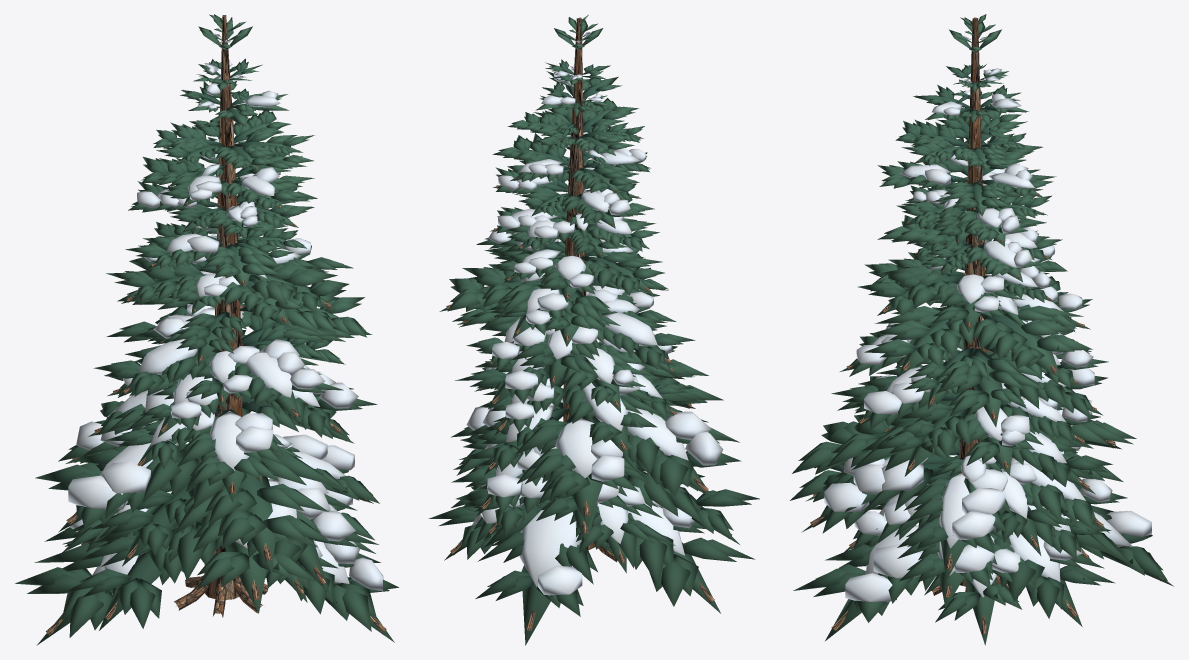
File: tree10.glb
3 renders of one model, left to right at view 1: azimuth 30°, elevation 25°; view 2: azimuth 150°, elevation 25°; view 3: azimuth 270°, elevation 25°, orthographic. The views are drawn at different scales.
Parts seen in each view (by area): view 1: Alpine10_1 (×2), Alpine10_2 (×2), Alpine10_0 (×2); view 2: Alpine10_1 (×2), Alpine10_2 (×2), Alpine10_0 (×2); view 3: Alpine10_1 (×2), Alpine10_2 (×2), Alpine10_0.
Boxes of the visible parts, <box> form: Alpine10_1 (×2): <box>15,14,398,645</box>; Alpine10_2 (×2): <box>68,33,383,591</box>; Alpine10_0 (×2): <box>46,15,386,635</box>; Alpine10_1 (×2): <box>428,14,759,645</box>; Alpine10_2 (×2): <box>466,32,723,595</box>; Alpine10_0 (×2): <box>446,17,732,631</box>; Alpine10_1 (×2): <box>790,14,1173,645</box>; Alpine10_2 (×2): <box>824,35,1151,601</box>; Alpine10_0: <box>810,17,1163,634</box>.
Size of the model in its own units: 8.45 by 15.72 by 9.33.
Materials: 6 (2 with a texture image).
